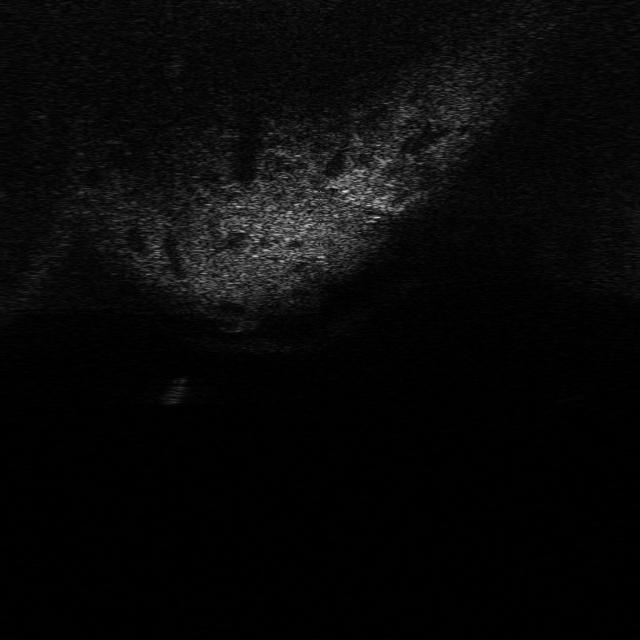cylinder: (157, 375, 189, 409)
